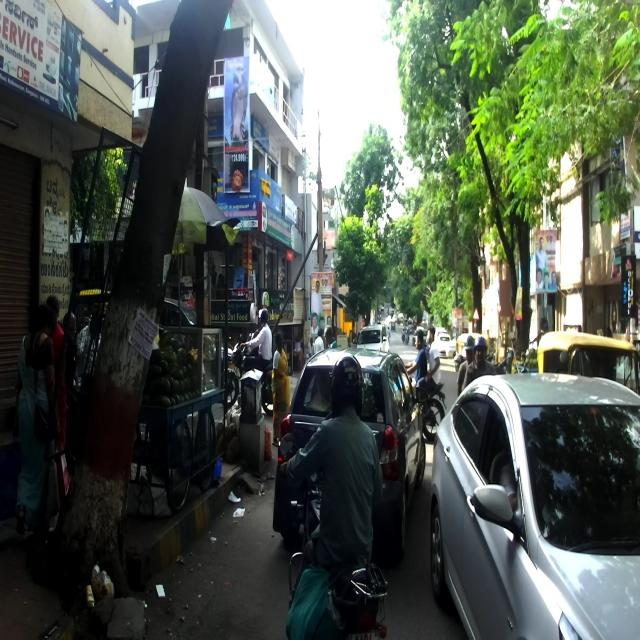car: (428, 372, 640, 640), (274, 339, 432, 555)
motorcycle: (222, 333, 280, 417)
